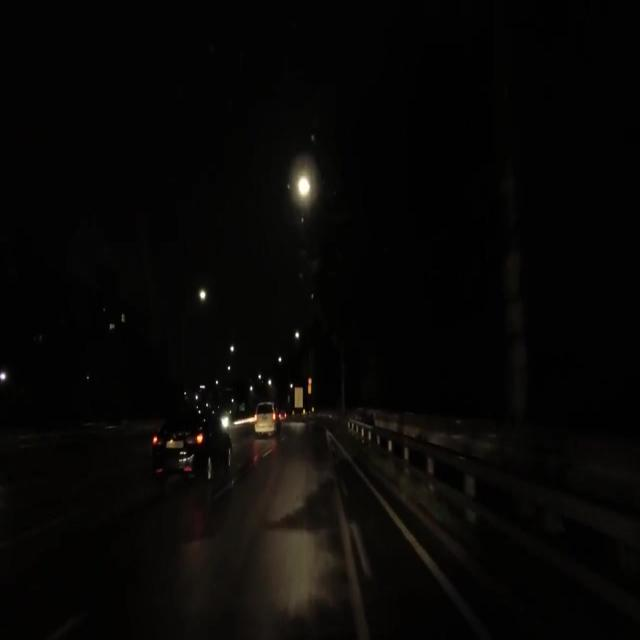Car: (150, 409, 229, 481), (253, 397, 276, 436)
